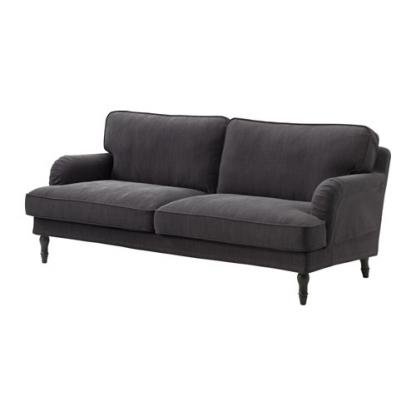Sofa: (20, 103, 396, 308)
